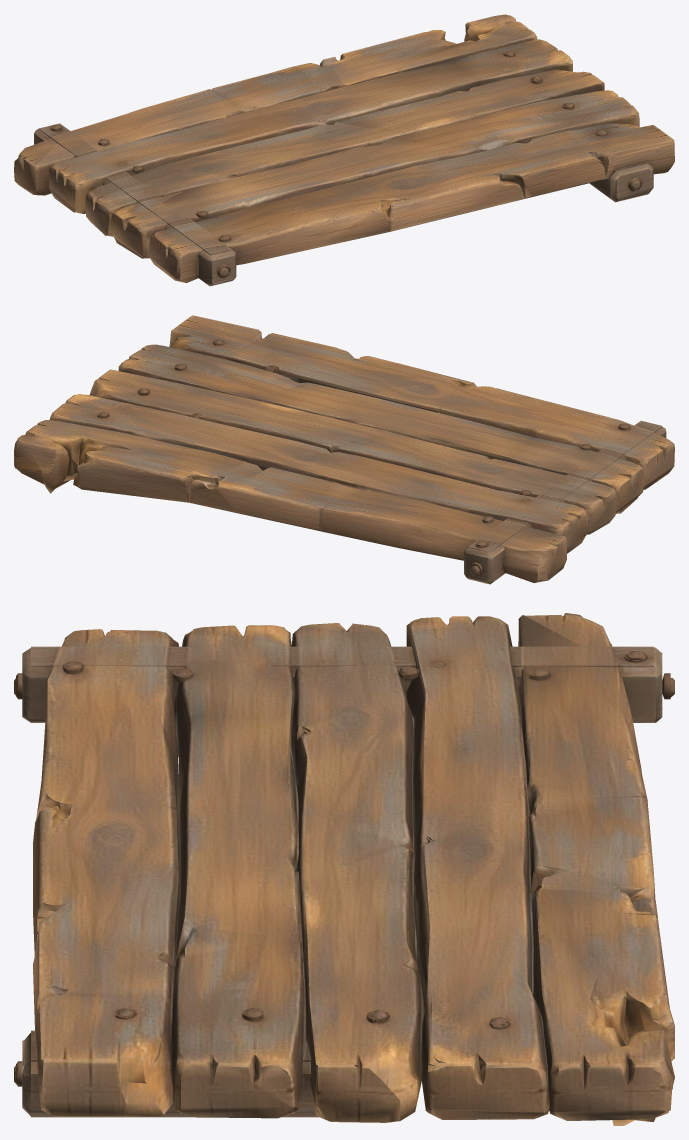
Rendered from weathered-wood-platform.glb.
3 renders of one model, top to bottom at view 1: azimuth 30°, elevation 25°; view 2: azimuth 150°, elevation 25°; view 3: azimuth 270°, elevation 25°, orthographic. The views are drawn at different scales.
Visible parts, largest first — view 1: tripo_node_b76a2960-f99c-4b4a-a29e-2382d63e343e; view 2: tripo_node_b76a2960-f99c-4b4a-a29e-2382d63e343e; view 3: tripo_node_b76a2960-f99c-4b4a-a29e-2382d63e343e.
Boxes of the visible parts, x1=… form: tripo_node_b76a2960-f99c-4b4a-a29e-2382d63e343e: x1=14, y1=14, x2=674, y2=286; tripo_node_b76a2960-f99c-4b4a-a29e-2382d63e343e: x1=14, y1=315, x2=674, y2=584; tripo_node_b76a2960-f99c-4b4a-a29e-2382d63e343e: x1=14, y1=613, x2=674, y2=1125.
Size of the model in its own units: 0.998 by 0.0996 by 0.6113.
Materials: 1 (1 with a texture image).
